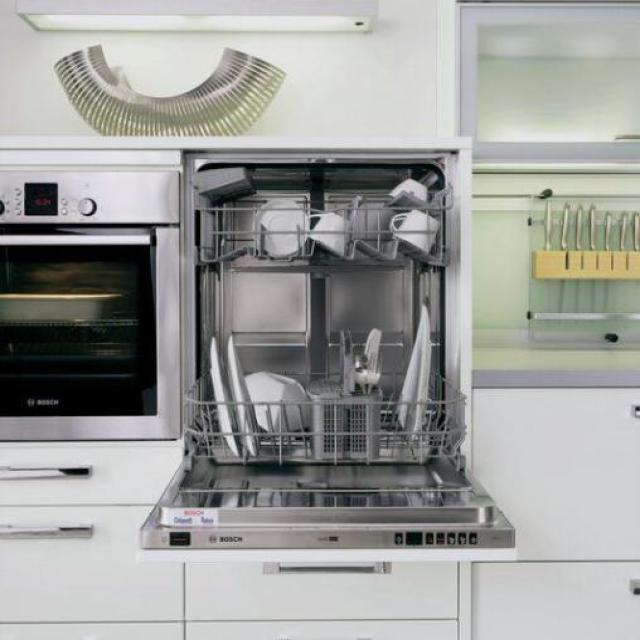dishwasher: (132, 147, 524, 580)
